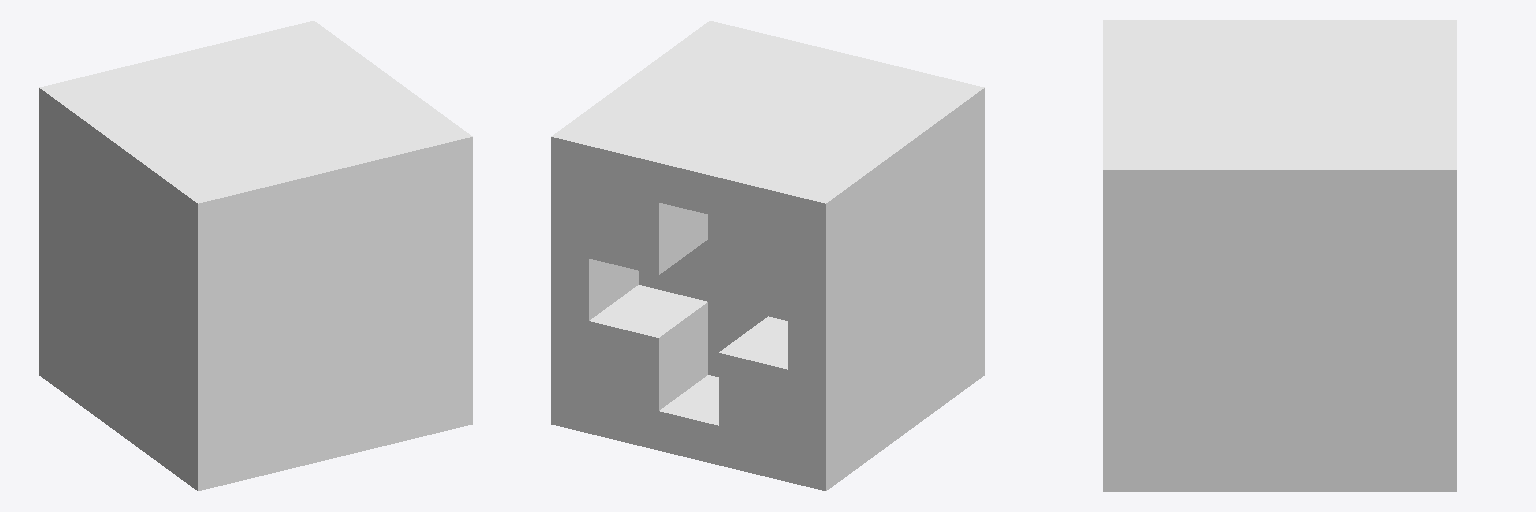
URDF robot description (Cross_cube_bottle_preprocessed):
<?xml version="1.0" ?>
<robot name="Cross_cube_bottle_preprocessed">
  <link name="baseLink">
    <contact>
    	<friction_anchor/>
    	   <lateral_friction value="1.0"/>
    </contact>
    <inertial>
      <origin rpy="0 0 0" xyz="0 0 0"/>
       <!-- mass controls penetration -->
       <mass value=".5"/>
       <inertia ixx="1e-4" ixy="0" ixz="0" iyy="1e-4" iyz="0" izz="1e-4"/>
    </inertial>
    <visual>
      <origin rpy="0 0 0" xyz="0 0 0"/>
      <geometry>
        <mesh filename="Cross_cube_bottle_preprocessed.obj"/>
      </geometry>
       <material name="white">
        <color rgba="1 1 1 1"/>
      </material>
    </visual>
    <collision>
      <origin rpy="0 0 0" xyz="0 0 0"/>
      <geometry>
        <mesh filename="Cross_cube_bottle_preprocessed.obj"/>
      </geometry>
    </collision>
  </link>
</robot>

--- Facts derived from the render (not from the file) ---
3 views of the same robot in one strip: view 1: azimuth 30°, elevation 25°; view 2: azimuth 150°, elevation 25°; view 3: azimuth 270°, elevation 25° (orthographic).
Model Cross_cube_bottle_preprocessed with 1 links and 0 joints (none), rooted at baseLink, posed every joint at zero.
Visible links, largest first — view 1: baseLink; view 2: baseLink; view 3: baseLink.
Boxes of the visible links, x1,y1,x2,y2 form: baseLink: (39,21,472,490); baseLink: (551,21,984,490); baseLink: (1103,20,1456,491).
Bounding box of the posed robot: 0.08 × 0.08 × 0.08 m (x, y, z).
Meshes: 1 distinct files referenced, 1 mesh visuals loaded (1 OBJ).